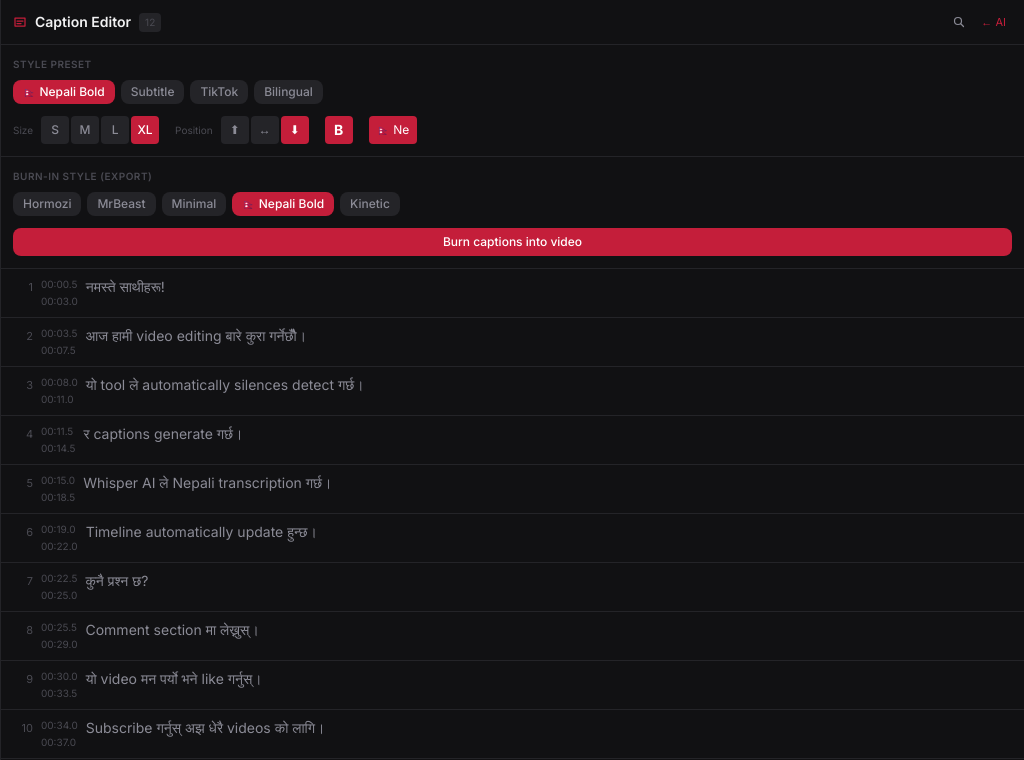
it: SubtitleEditorPanel — find/replace › match count shows when there are matches
The width and height of the screenshot is (1024, 760).
Click the button with test id "open-find-replace" at {"x": 959, "y": 22}, box x1=947 y1=10 x2=971 y2=34
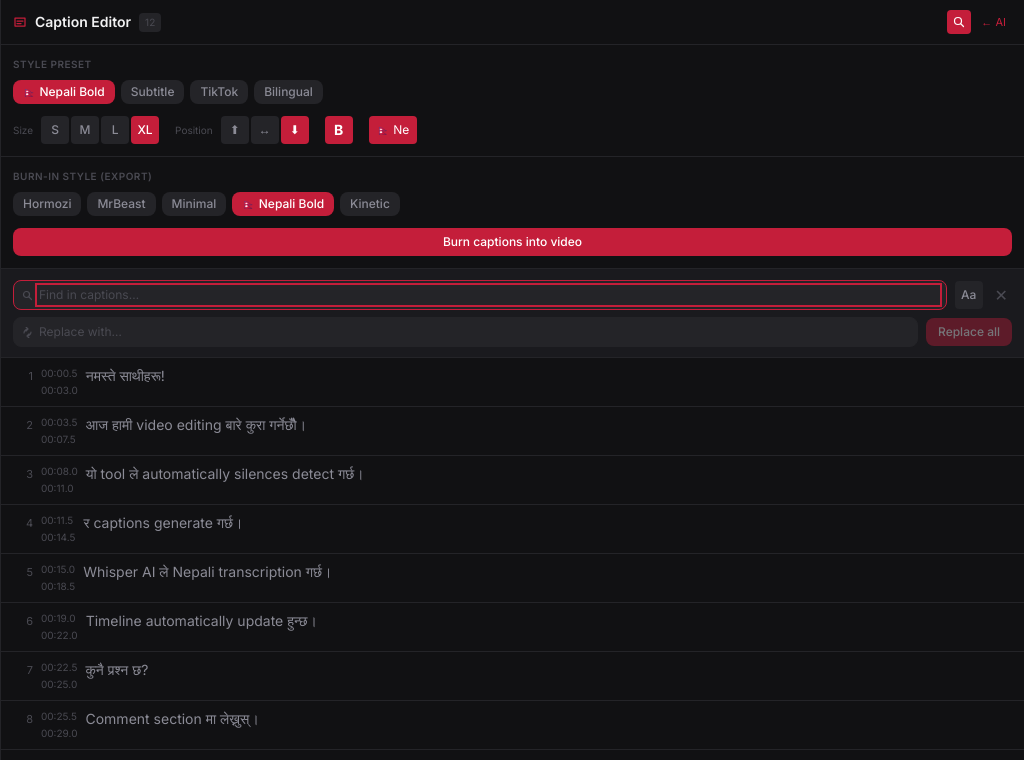
Type "video" into the field with test id "find-input" at {"x": 488, "y": 295}, box x1=39 y1=287 x2=938 y2=303
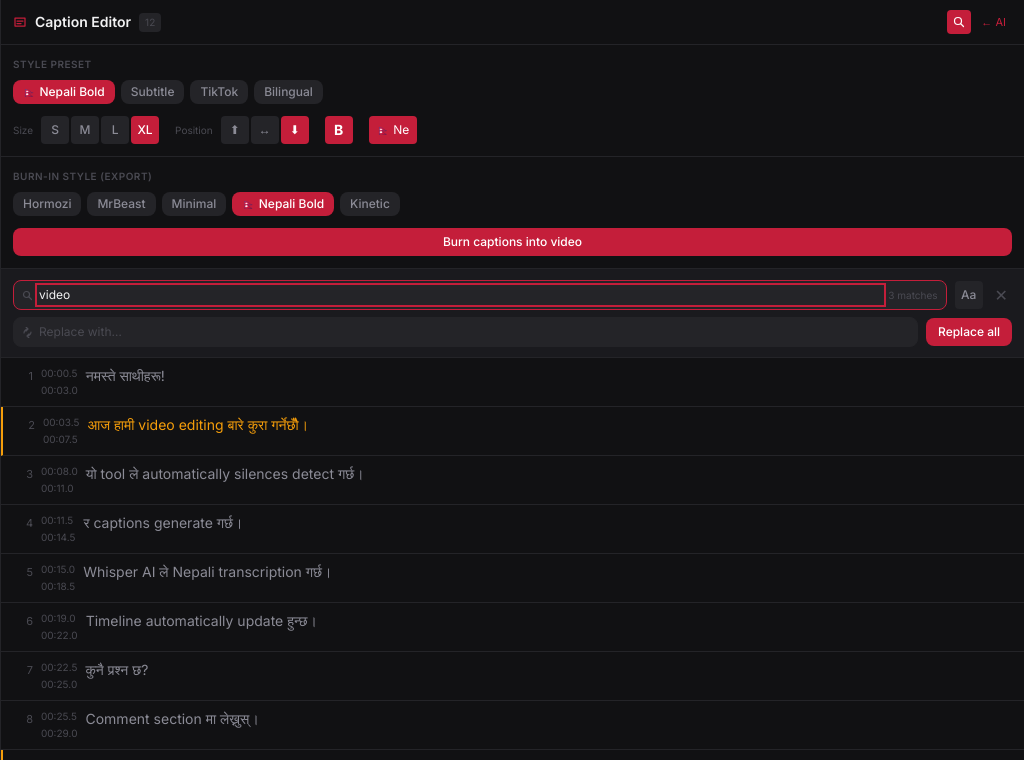
Check: the text "3 matches" is shown, box x1=888 y1=288 x2=938 y2=302
